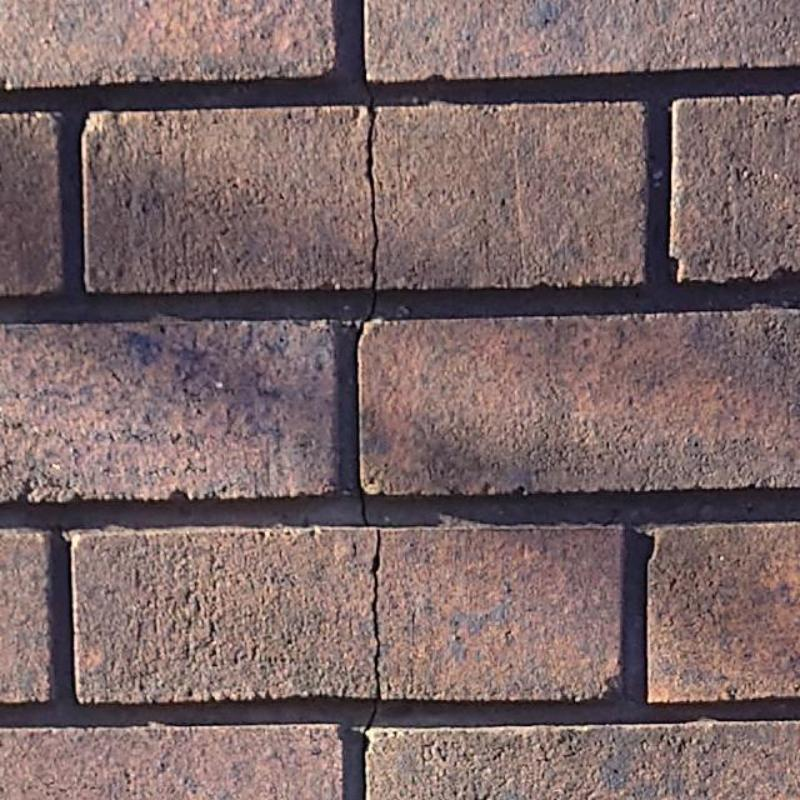pothole: (361, 529, 381, 799), (364, 79, 381, 323), (354, 322, 371, 526), (361, 0, 366, 82)
